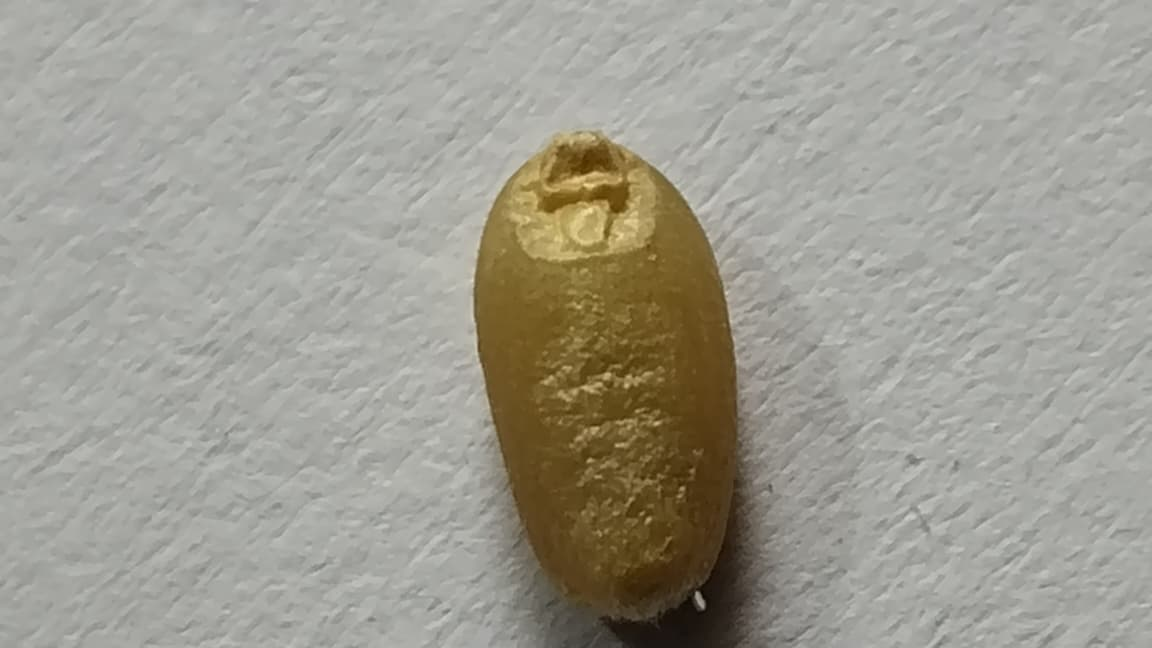healthy: (475, 131, 735, 618)
